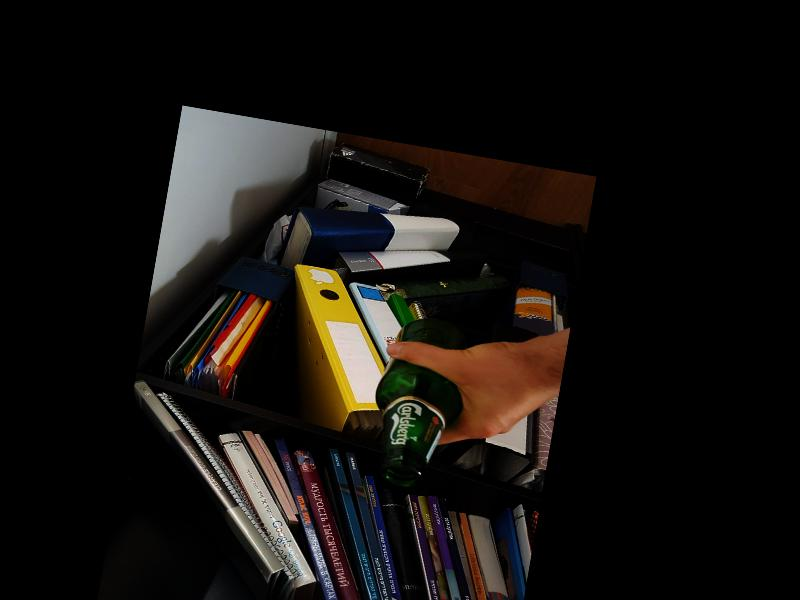Beer: (362, 309, 473, 493)
